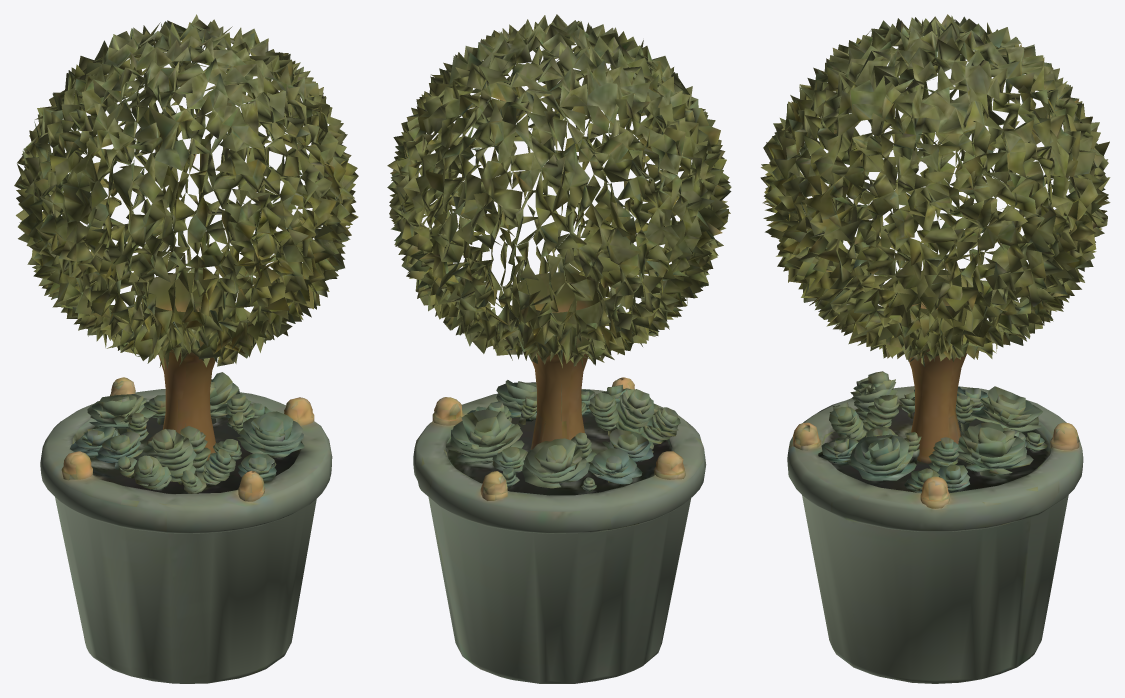
The model's file is plant_topiary.glb.
3 views of the same model, side by side, from view 1: azimuth 30°, elevation 25°; view 2: azimuth 150°, elevation 25°; view 3: azimuth 270°, elevation 25° (orthographic).
Visible parts, largest first — view 1: prop; view 2: prop; view 3: prop.
Part boxes in pixels (<box>): prop: <box>14,14,358,683</box>; prop: <box>387,14,731,683</box>; prop: <box>760,14,1110,683</box>.
Size of the model in its own units: 0.6414 by 1.25 by 0.6491.
Materials: 1 (1 with a texture image).
